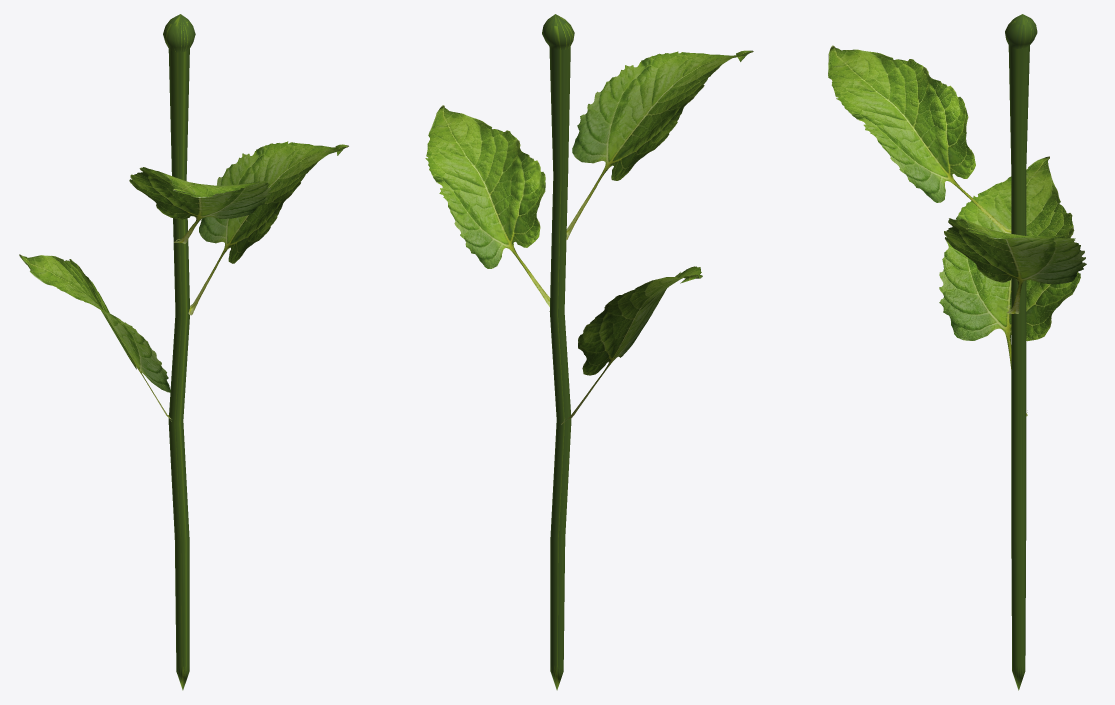
The model's file is Sunflower_young.fbx.
3 views of the same model, side by side, from view 1: azimuth 30°, elevation 25°; view 2: azimuth 150°, elevation 25°; view 3: azimuth 270°, elevation 25° (orthographic).
Visible parts, largest first — view 1: pasted__pasted__pCube2 (×2), pasted__pCylinder2, pasted__pCube2; view 2: pasted__pasted__pCube2 (×2), pasted__pCylinder2, pasted__pCube2; view 3: pasted__pasted__pCube2 (×2), pasted__pCube2, pasted__pCylinder2.
Boxes of the visible parts, <box> form: pasted__pasted__pCube2 (×2): <box>129,141,348,315</box>; pasted__pCylinder2: <box>163,14,195,690</box>; pasted__pCube2: <box>19,254,171,421</box>; pasted__pasted__pCube2 (×2): <box>425,50,753,306</box>; pasted__pCylinder2: <box>542,14,574,690</box>; pasted__pCube2: <box>561,266,702,424</box>; pasted__pasted__pCube2 (×2): <box>828,45,1086,313</box>; pasted__pCube2: <box>939,156,1080,416</box>; pasted__pCylinder2: <box>1005,14,1037,690</box>.
Size of the model in its own units: 21.61 by 45.59 by 19.03.
